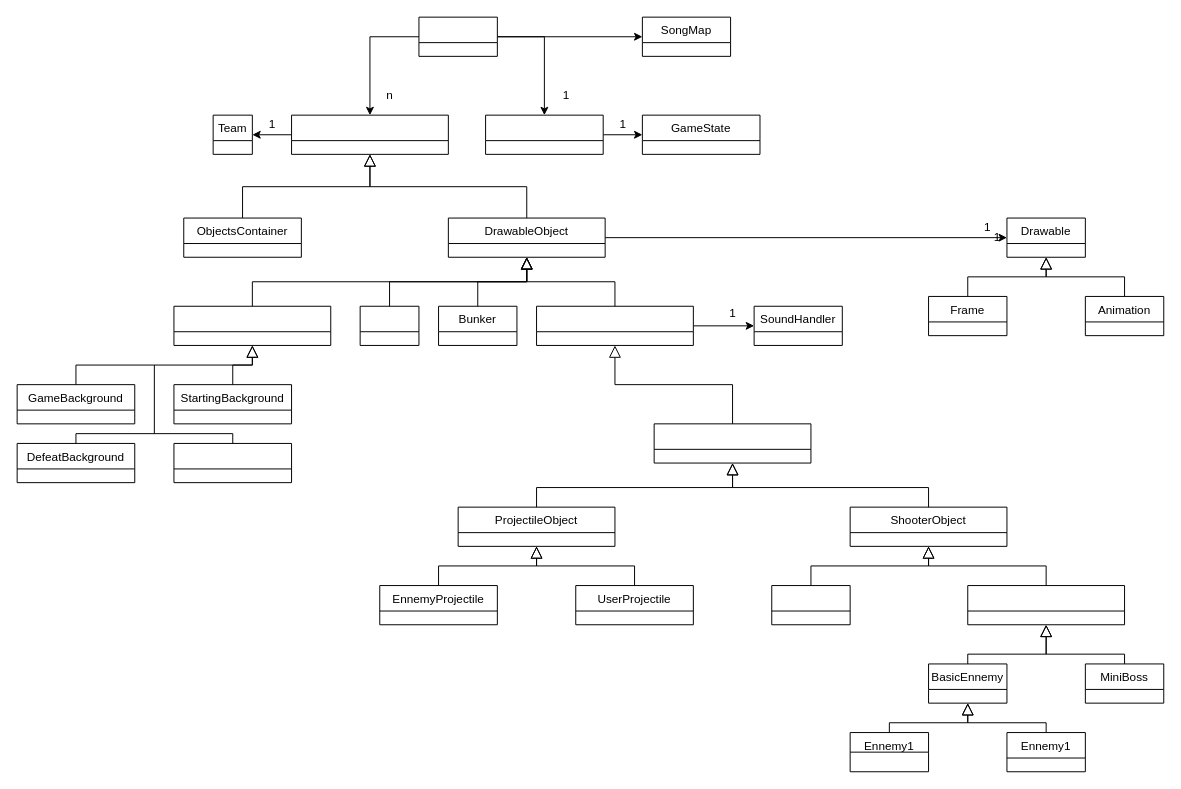
The diagram is 1181 pixels wide and 789 high, and some of its shapes have lost their labels. The centre of each missing label's shape, as x and y in pixels:
"AliveObject" goes at pixel 614 325.
"BackroundImage" goes at pixel 252 325.
"EnnemyObject" goes at pixel 1046 605.
"Game" goes at pixel 457 36.
"GameObject" goes at pixel 369 134.
"GameStateManager" goes at pixel 544 134.
"MovingObject" goes at pixel 732 443.
"User" goes at pixel 810 605.
"UserLife" goes at pixel 389 325.
"VictoryBackground" goes at pixel 232 462.
